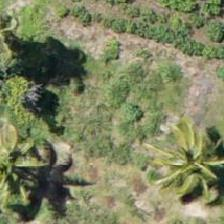coconut_tree: (147, 110, 223, 200), (0, 124, 46, 214)
